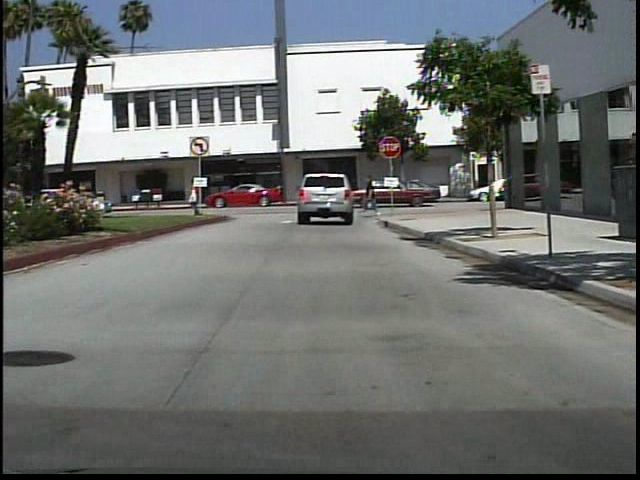person: (181, 176, 210, 218), (361, 173, 385, 218), (234, 178, 250, 202)
